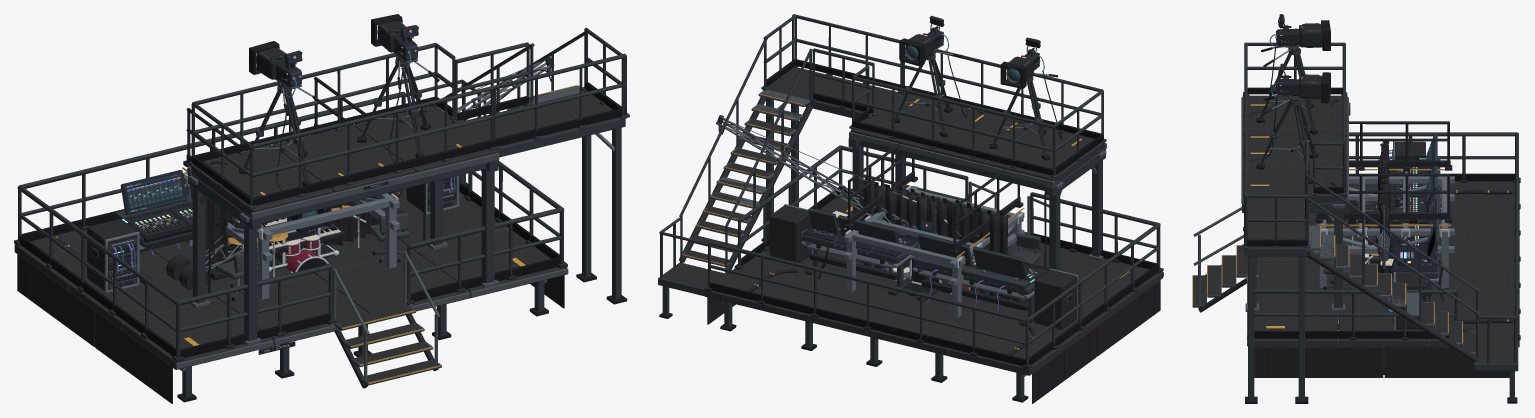
Rendered from concert-equipment.glb.
3 views of the same model, side by side, from view 1: azimuth 30°, elevation 25°; view 2: azimuth 150°, elevation 25°; view 3: azimuth 270°, elevation 25° (orthographic). The views are drawn at different scales.
Parts seen in each view (by area): view 1: foh, bridge-frame, masking, jib, drums, keyboard; view 2: foh, bridge-frame, masking, jib; view 3: foh, bridge-frame, masking, camera, jib.
Boxes of the visible parts, left/top/right/bottom form: foh: left=14, top=14, right=629, bottom=403; bridge-frame: left=182, top=77, right=399, bottom=349; masking: left=205, top=196, right=379, bottom=269; jib: left=166, top=56, right=554, bottom=290; drums: left=228, top=205, right=366, bottom=277; keyboard: left=262, top=210, right=344, bottom=254; foh: left=658, top=14, right=1163, bottom=403; bridge-frame: left=841, top=143, right=1024, bottom=358; masking: left=859, top=178, right=1007, bottom=297; jib: left=716, top=115, right=1027, bottom=309; foh: left=1192, top=14, right=1520, bottom=403; bridge-frame: left=1313, top=121, right=1454, bottom=287; masking: left=1377, top=141, right=1390, bottom=273; camera: left=1348, top=193, right=1402, bottom=228; jib: left=1366, top=201, right=1392, bottom=272.
Bounding box in the file's own units: 8.18 × 5.54 × 6.04.
Materials: 63 (11 with a texture image).
